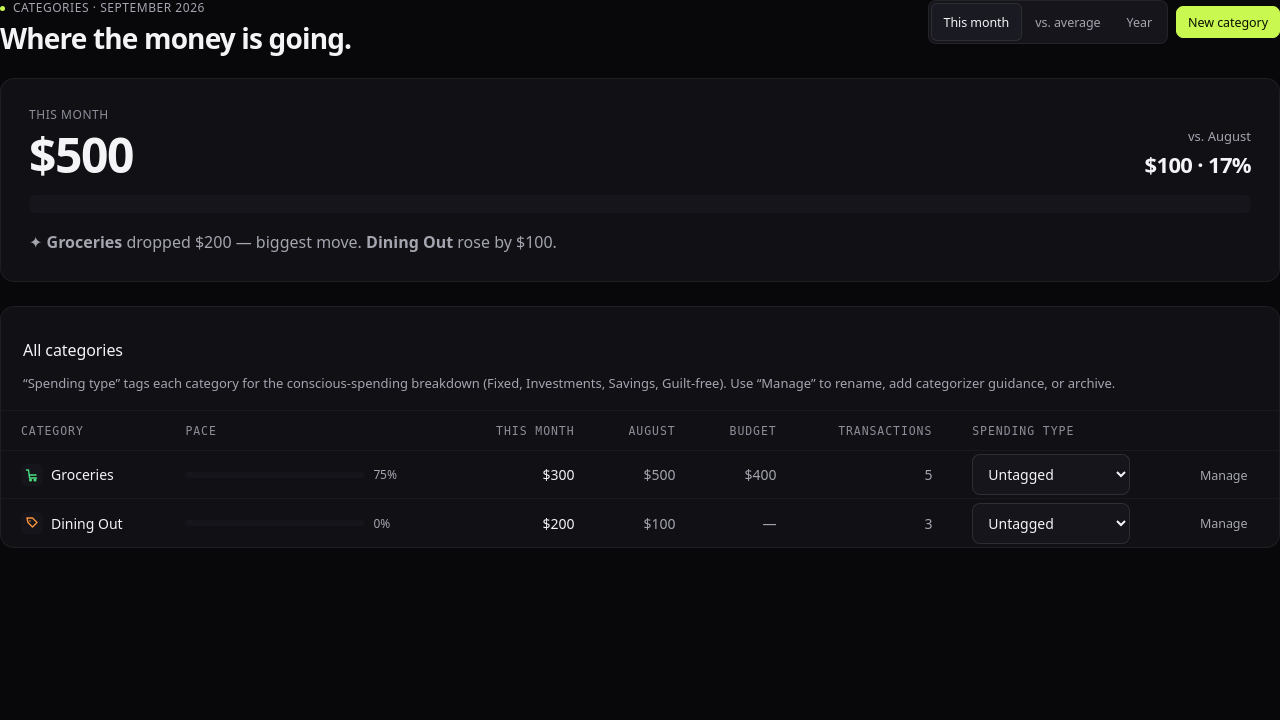
Categories — management › opens the new-category input and a per-row Manage panel with guidance
# New category flow.
Click the button "New category": (1228, 22) [1176,6,1279,38]
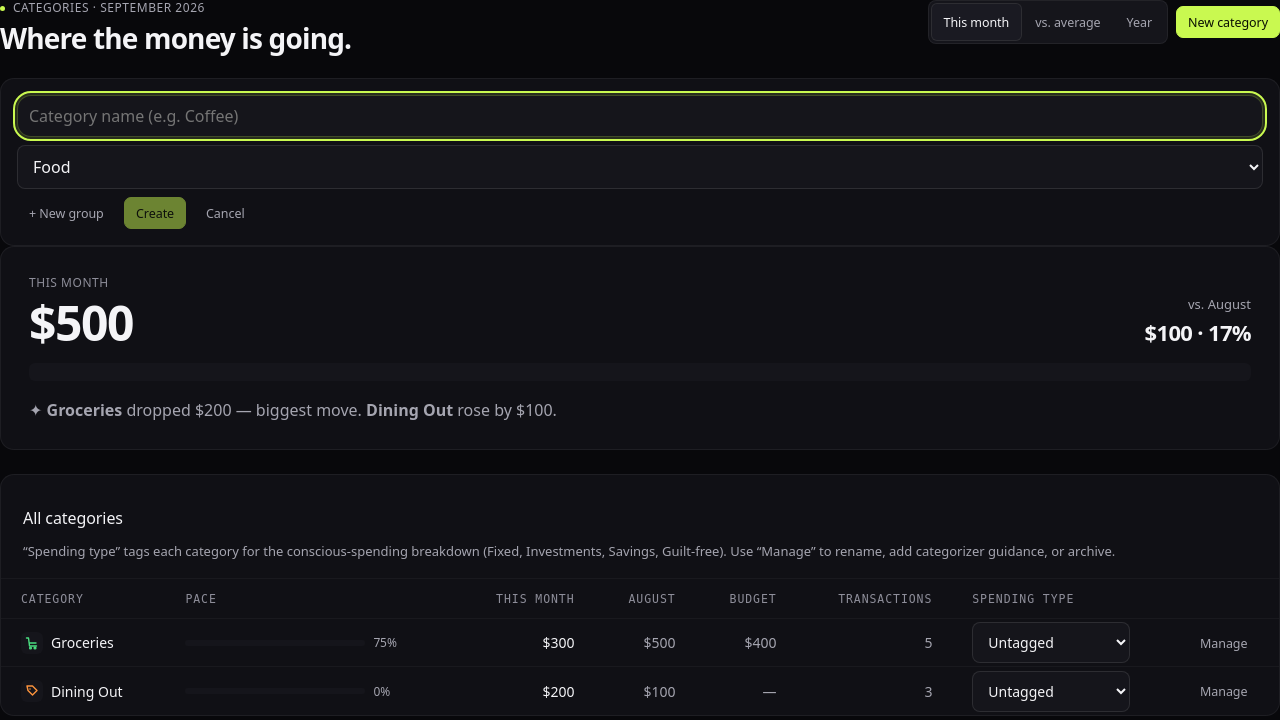
Expected: the field with placeholder "Category name (e.g. Coffee)" is shown, [17,95,1263,137]
# Per-row Manage reveals rename + guidance + archive controls.
Click the button "Manage" in the row of "75": (1223, 643) [1188,627,1259,659]
(page scrolled)
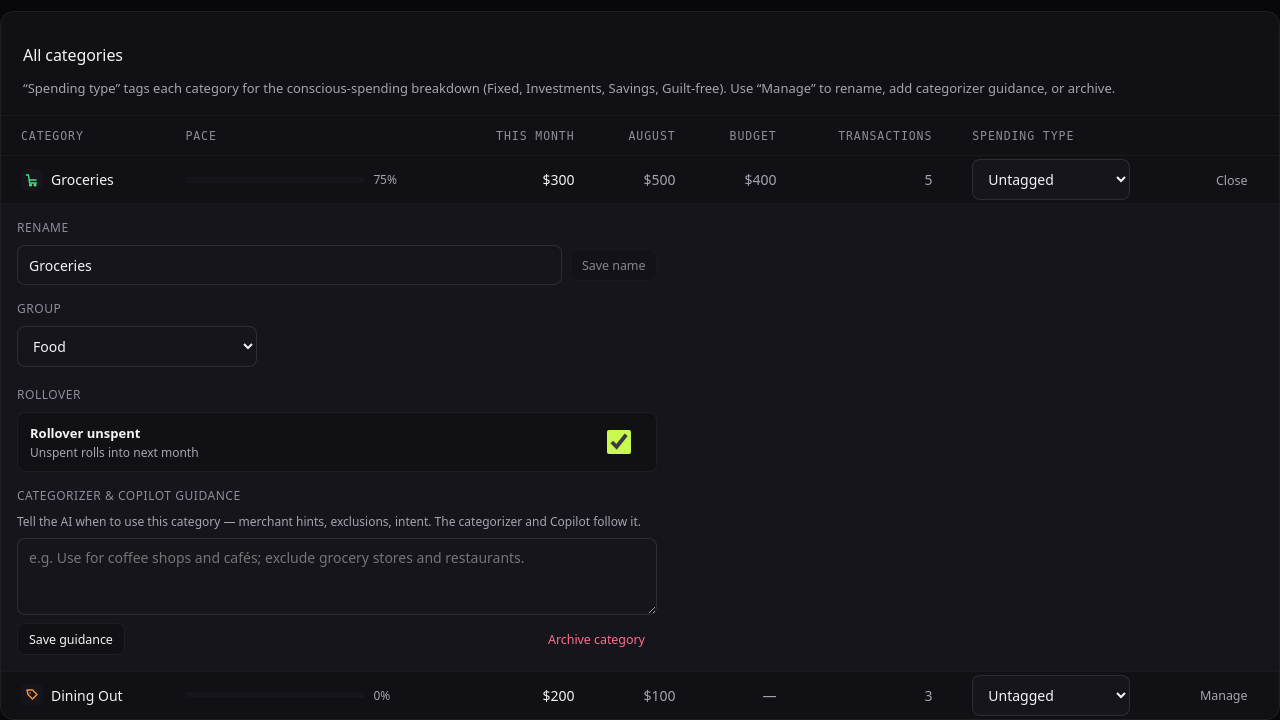
Expected: the text "Categorizer & Copilot guidance" is shown, [17,487,241,504]
Expected: the button "Save guidance" is shown, [17,623,125,655]
Expected: the button "Archive category" is shown, [536,623,657,655]
